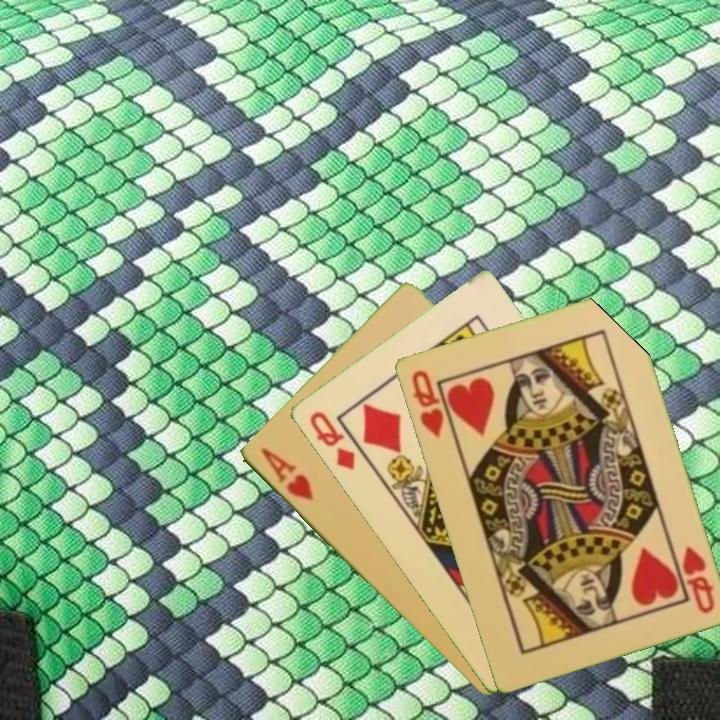Ah: (256, 444, 316, 504)
Qd: (305, 407, 358, 473)
Qh: (407, 366, 455, 441), (677, 542, 718, 617)
